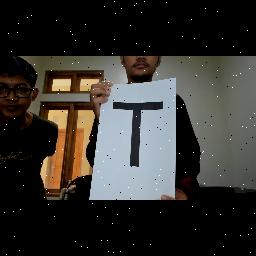t: (110, 98, 168, 176)
